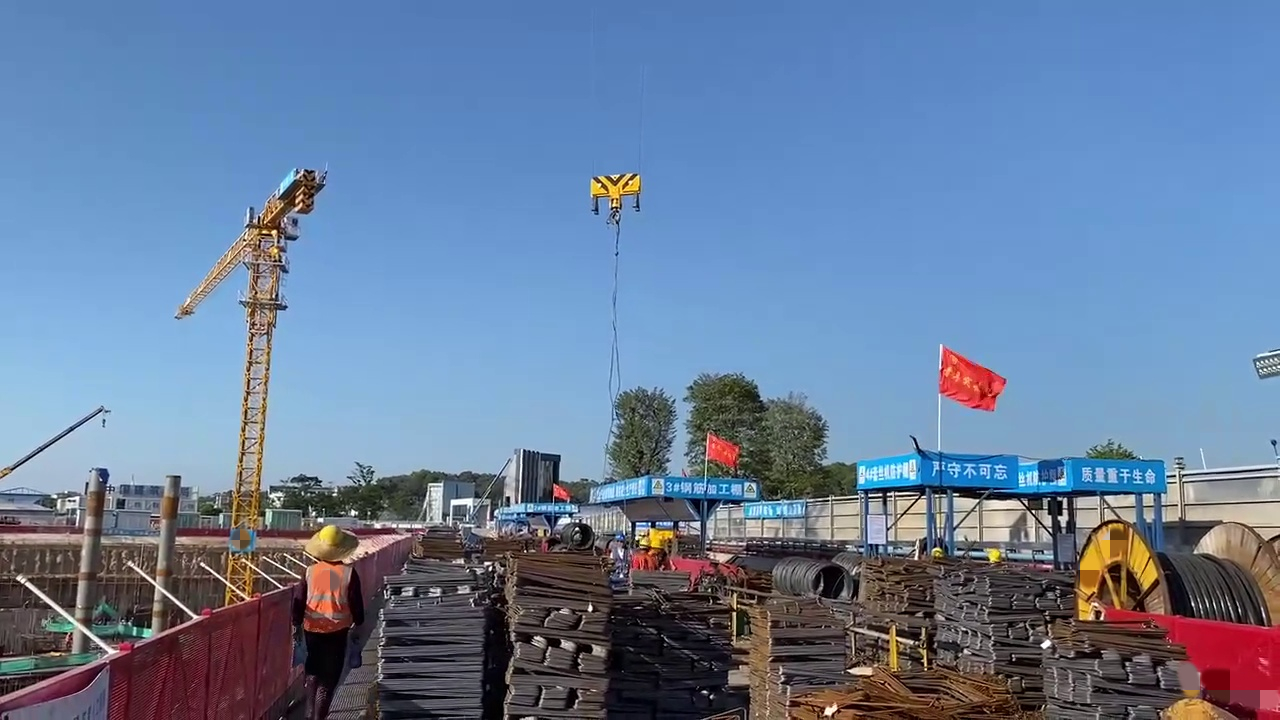fence: (1, 580, 302, 720), (1165, 612, 1277, 720)
helmet: (313, 524, 346, 545), (641, 535, 652, 547)
hook: (591, 171, 643, 217)
person: (296, 522, 361, 713), (632, 535, 650, 571), (652, 537, 671, 570)
rebar: (493, 553, 619, 720), (374, 554, 489, 720), (939, 556, 1056, 704), (760, 593, 874, 720), (796, 650, 990, 720)
slogan: (918, 454, 1022, 484), (1071, 461, 1167, 492)
vest: (305, 560, 354, 634)
